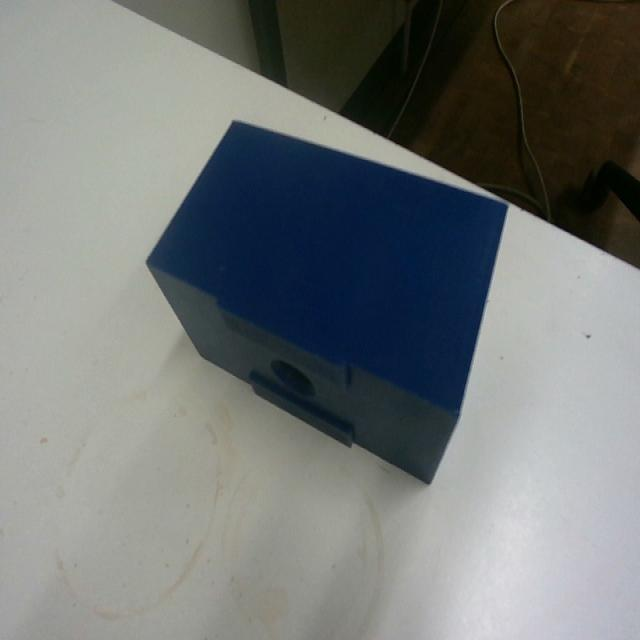Blue Cuboid: (144, 115, 510, 485)
